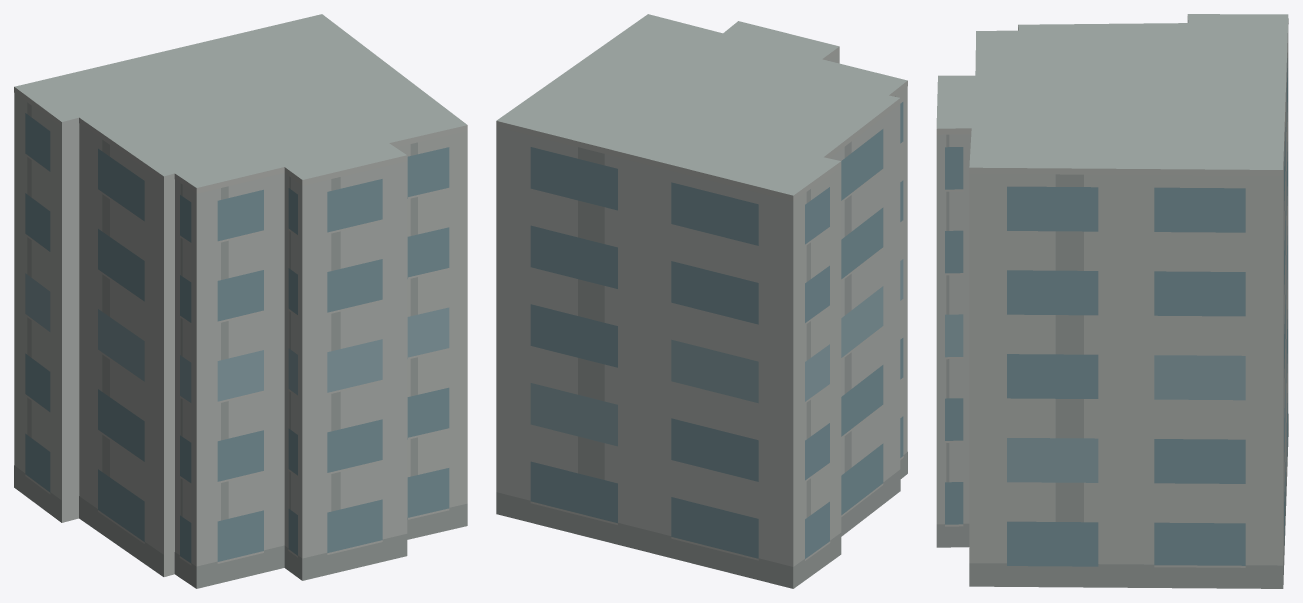
The model's file is survey-upis-32805919.glb.
3 renders of one model, left to right at view 1: azimuth 30°, elevation 25°; view 2: azimuth 150°, elevation 25°; view 3: azimuth 270°, elevation 25°, orthographic. The views are drawn at different scales.
Visible parts, largest first — view 1: survey-upis-32805919.tmp; view 2: survey-upis-32805919.tmp; view 3: survey-upis-32805919.tmp.
Part boxes in pixels (x1=…): survey-upis-32805919.tmp: x1=14, y1=14, x2=467, y2=588; survey-upis-32805919.tmp: x1=496, y1=14, x2=907, y2=588; survey-upis-32805919.tmp: x1=936, y1=14, x2=1288, y2=588.
Bounding box in the file's own units: 13.35 × 16.7 × 12.73.
